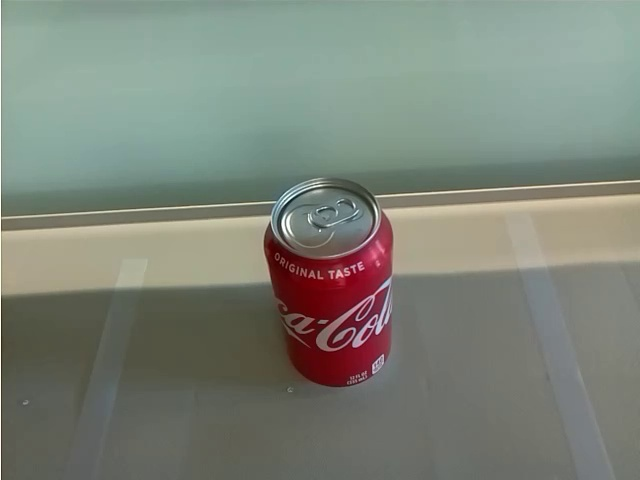cocacola: (262, 178, 392, 390)
